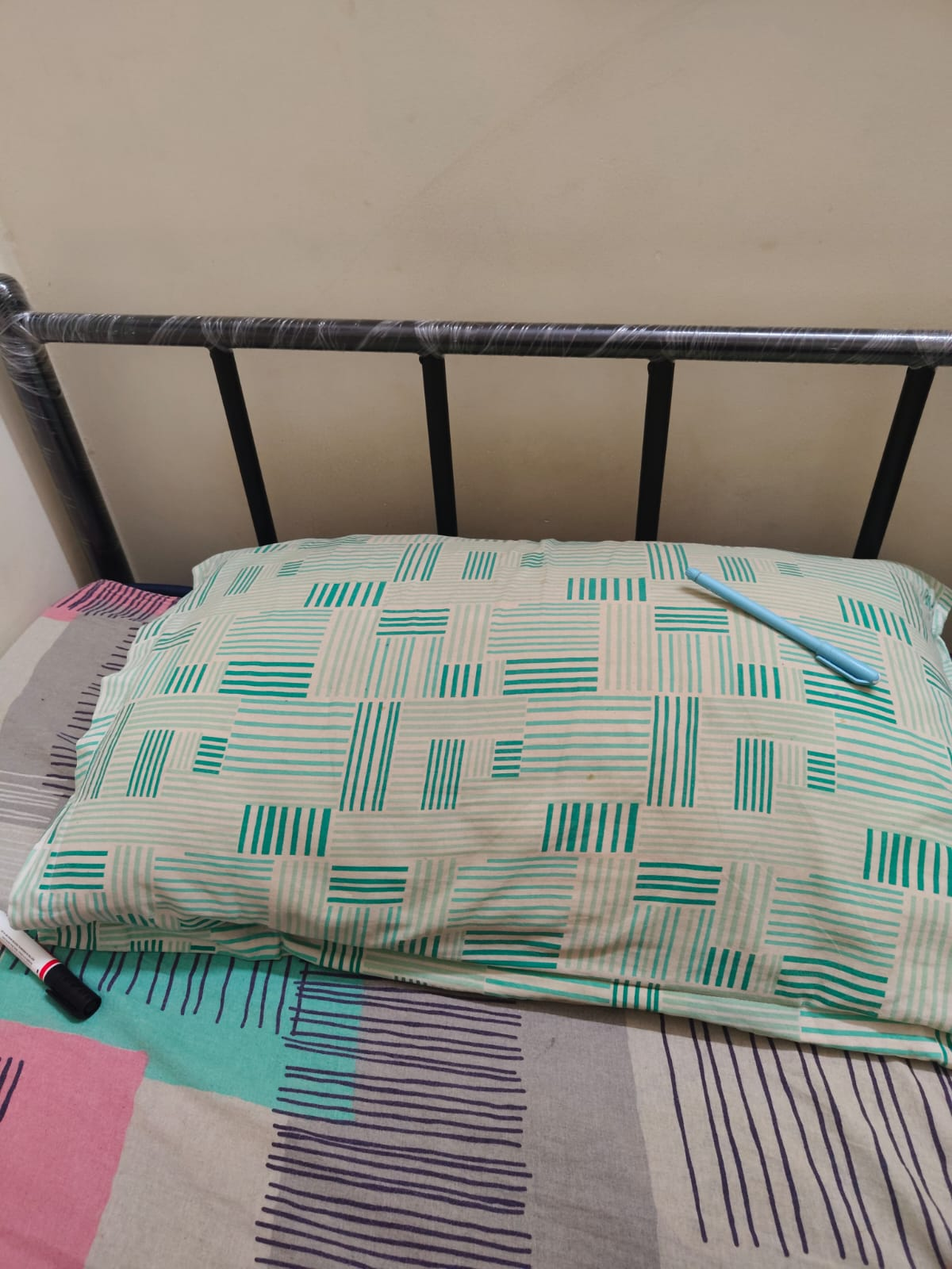case: (0, 901, 128, 1055)
pen: (683, 566, 886, 707)
